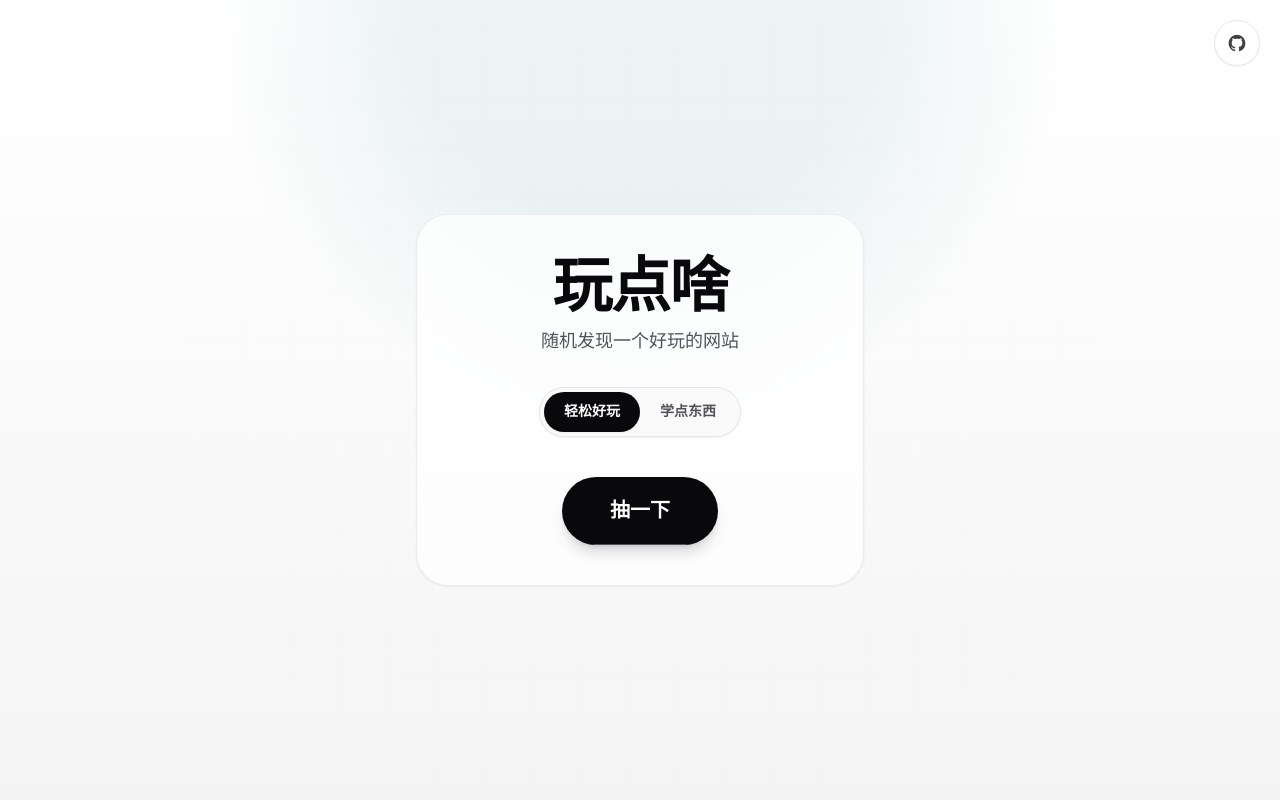
Scenario: recommendation flow › reflects filter changes in the recommendation result
Click the button "学点东西" at [688, 412], box [640,392,736,432]
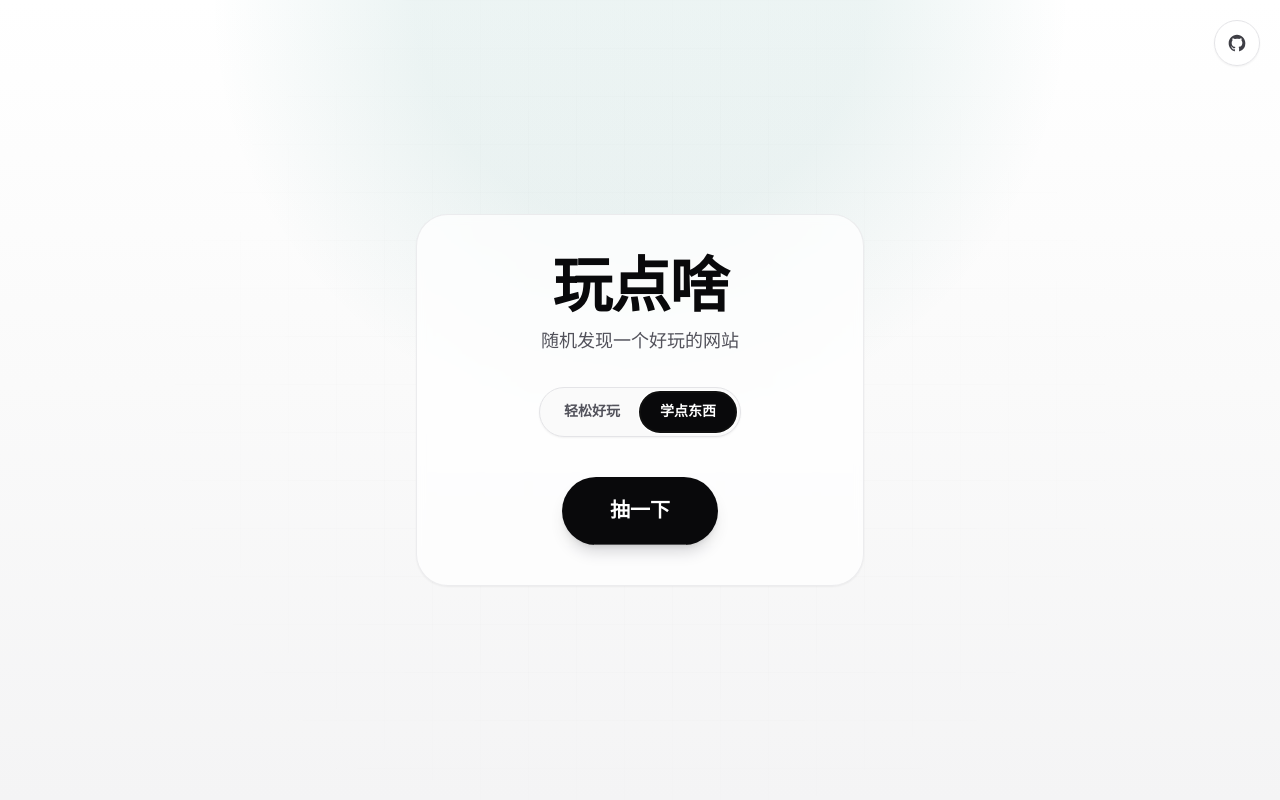
Click the button "抽一下" at [640, 511], box [562,477,718,545]
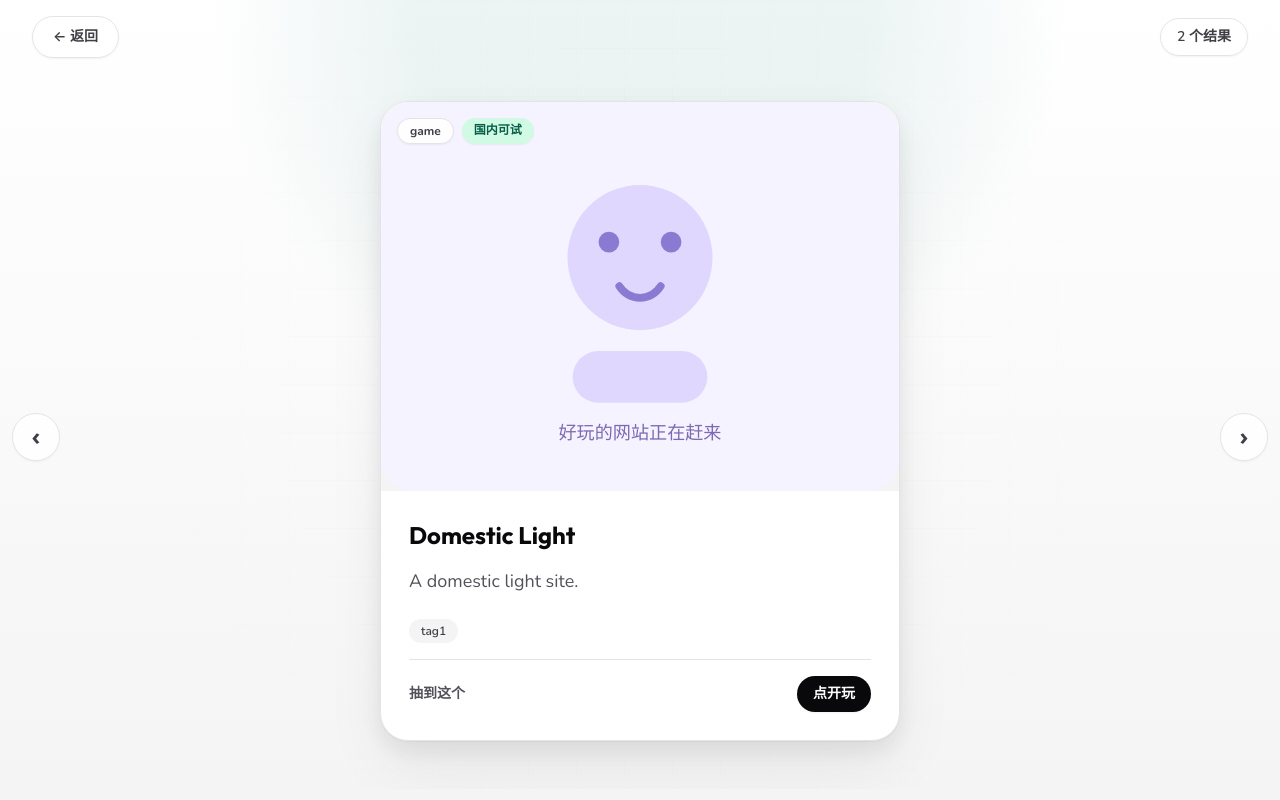
Expected: the element named "推荐卡片列表" is shown, [380,101,900,741]
